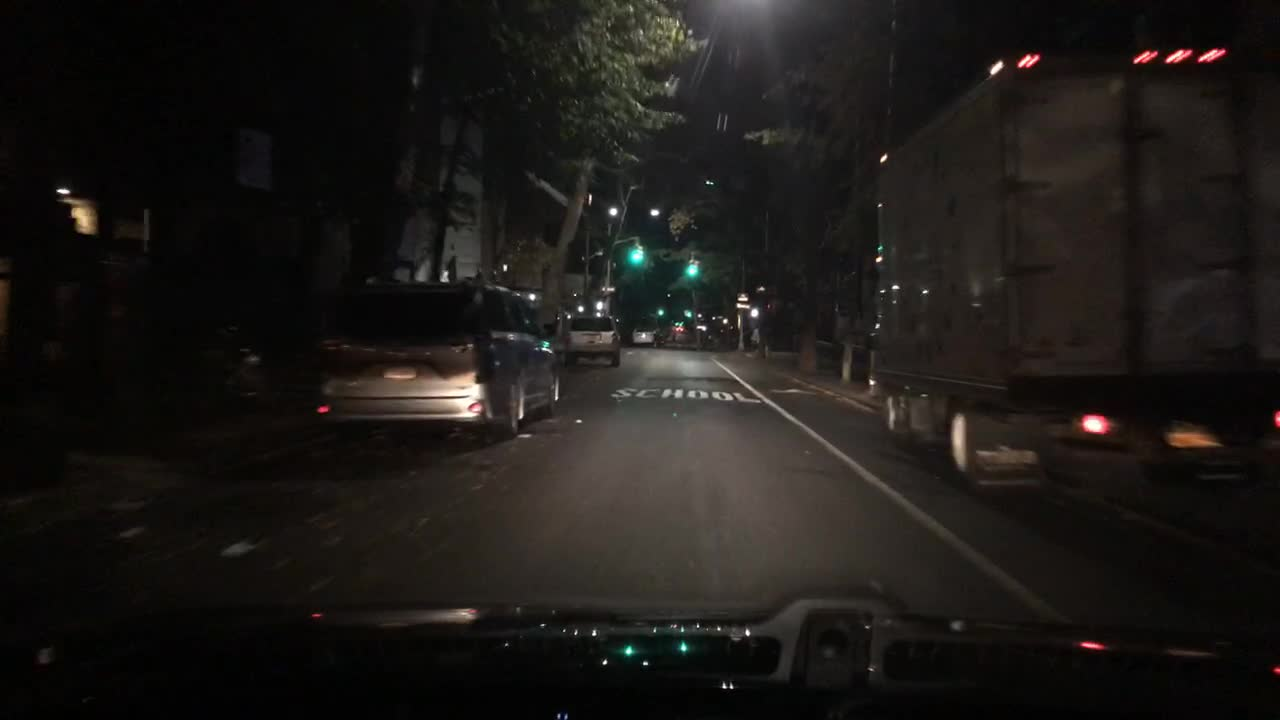car: (314, 275, 561, 441), (629, 326, 657, 348), (673, 324, 686, 334)
traffic light: (636, 245, 645, 262), (628, 244, 636, 262), (692, 260, 700, 277), (688, 259, 693, 276), (657, 308, 663, 315), (685, 310, 692, 316)
traffic sign: (736, 292, 749, 301), (736, 303, 749, 308)
truck: (866, 46, 1277, 502), (563, 313, 621, 367)
